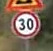limite 30: (9, 10, 42, 38)
